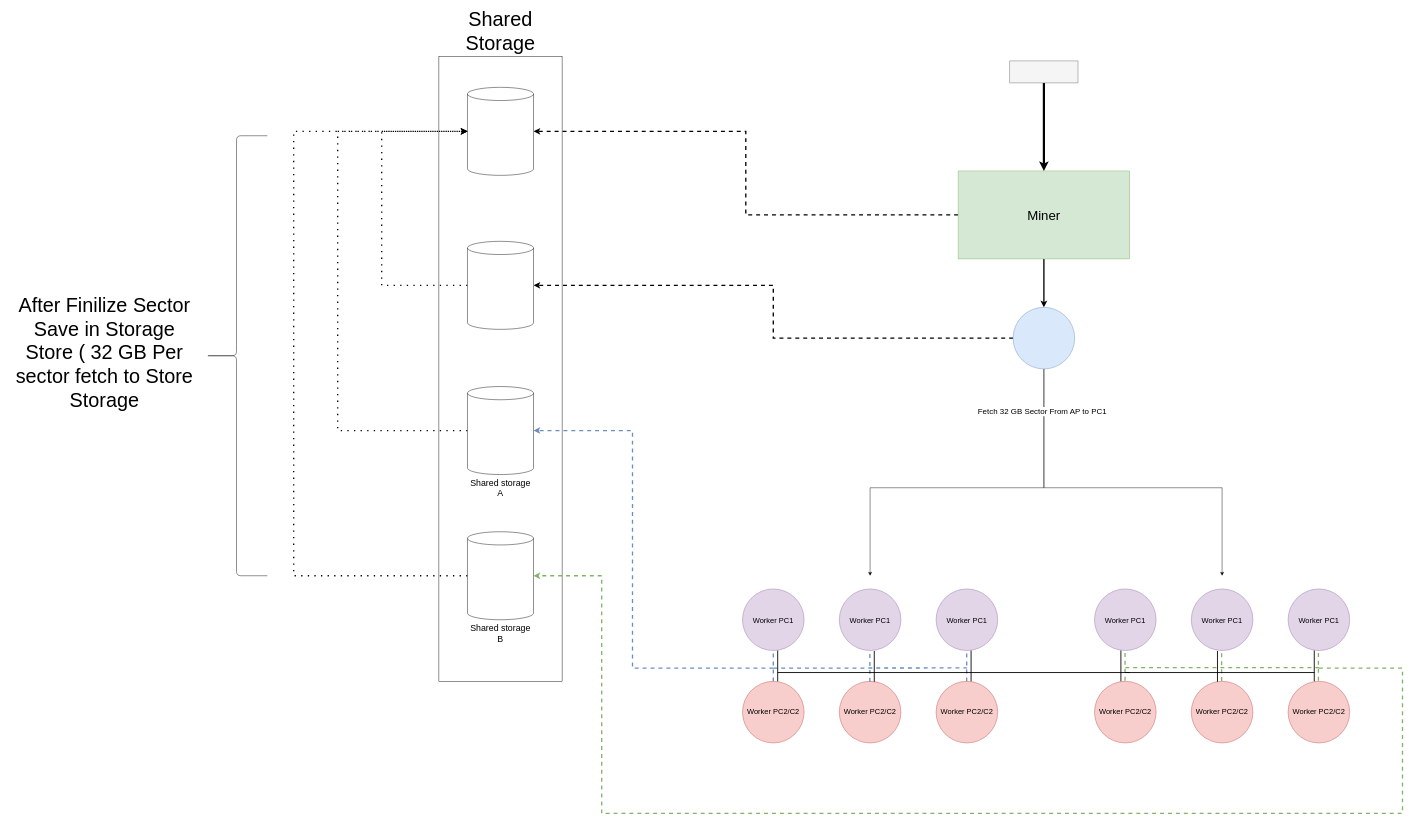
Some shapes in this 1414 by 825 pixel diagram are drawn without their labels. The centre of each missing label's shape, as x and y in pixels:
New Deal: pixel 1043 71
Seal for AP Storage: pixel 500 285
Store Storage: pixel 500 131
Worker AP: pixel 1044 338
